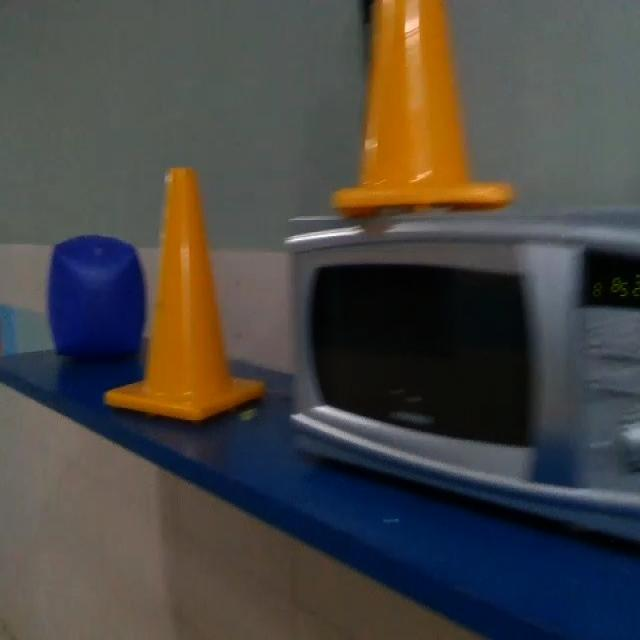cone: (105, 166, 265, 422), (332, 0, 513, 211)
cube: (47, 235, 148, 356)
